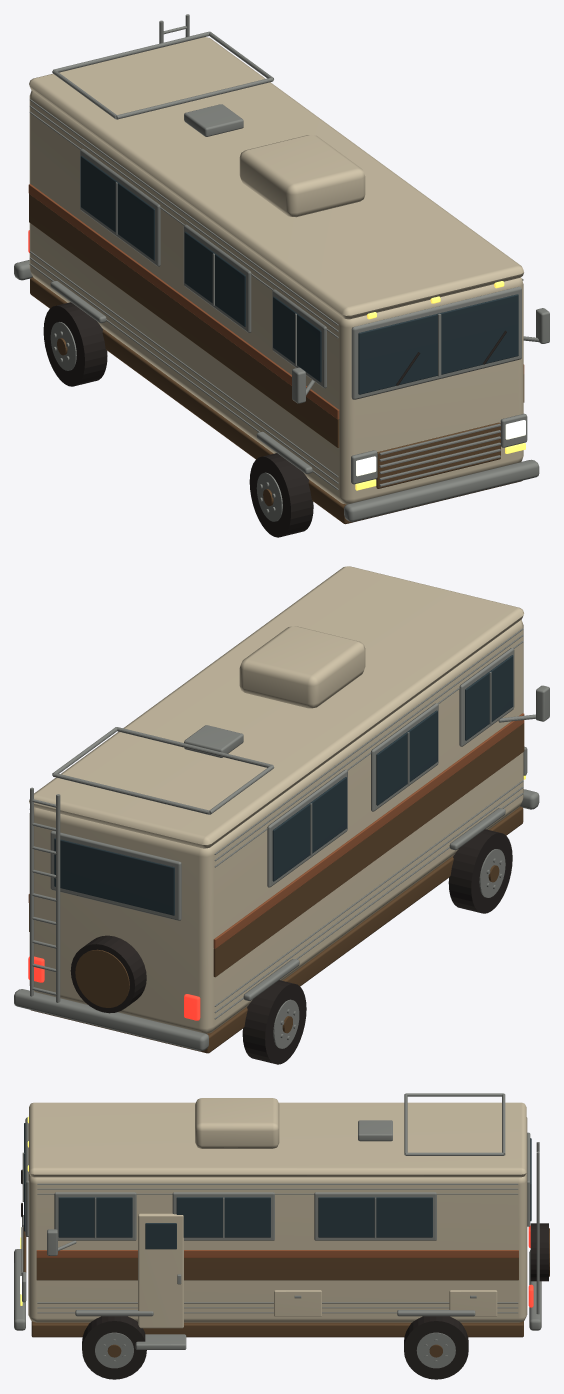
Rendered from m9e7fjnvg.glb.
3 views of the same model, one above another, from view 1: azimuth 30°, elevation 25°; view 2: azimuth 150°, elevation 25°; view 3: azimuth 270°, elevation 25° (orthographic). The views are drawn at different scales.
Visible parts, largest first — view 1: Roof cap, Coach body, Windshield, Brown belt, Roof AC, Chassis, Window glass.002, Bumper, Orange belt, Tire.001, Tire, Window glass.001 (+17 smaller); view 2: Coach body, Roof cap, Brown belt, Roof AC, Rear window, Chassis, Window glass.002, Bumper.001, Orange belt, Tire, Tire.001, Window glass.001 (+20 smaller); view 3: Coach body, Roof cap, Brown belt.001, Chassis, Window glass.005, Entry door, Roof AC, Window glass.004, Orange belt.001, Window glass.003, Tire.003, Tire.002 (+25 smaller).
Boxes of the visible parts, left/top/right/bottom form: Roof cap: left=29, top=37, right=523, bottom=319; Coach body: left=29, top=90, right=523, bottom=504; Windshield: left=358, top=294, right=518, bottom=394; Brown belt: left=29, top=194, right=339, bottom=447; Roof AC: left=239, top=135, right=365, bottom=217; Chassis: left=30, top=277, right=522, bottom=524; Window glass.002: left=80, top=156, right=154, bottom=260; Bumper: left=344, top=459, right=539, bottom=521; Orange belt: left=28, top=184, right=339, bottom=419; Tire.001: left=43, top=302, right=107, bottom=386; Tire: left=249, top=453, right=313, bottom=537; Window glass.001: left=184, top=231, right=245, bottom=326; Coach body: left=29, top=620, right=523, bottom=1033; Roof cap: left=29, top=566, right=523, bottom=848; Brown belt: left=213, top=723, right=524, bottom=977; Roof AC: left=239, top=626, right=365, bottom=708; Rear window: left=54, top=838, right=174, bottom=915; Chassis: left=31, top=806, right=523, bottom=1053; Window glass.002: left=272, top=777, right=346, bottom=881; Bumper.001: left=14, top=989, right=208, bottom=1051; Orange belt: left=213, top=713, right=524, bottom=948; Tire: left=448, top=829, right=512, bottom=913; Tire.001: left=242, top=980, right=306, bottom=1064; Window glass.001: left=376, top=710, right=437, bottom=805; Coach body: left=28, top=1117, right=527, bottom=1322; Roof cap: left=29, top=1102, right=526, bottom=1177; Brown belt.001: left=36, top=1258, right=518, bottom=1280; Chassis: left=31, top=1321, right=523, bottom=1337; Window glass.005: left=318, top=1197, right=432, bottom=1237; Entry door: left=138, top=1213, right=183, bottom=1328; Roof AC: left=195, top=1098, right=279, bottom=1148; Window glass.004: left=176, top=1197, right=270, bottom=1237; Orange belt.001: left=36, top=1250, right=518, bottom=1257; Window glass.003: left=58, top=1197, right=132, bottom=1237; Tire.003: left=404, top=1316, right=468, bottom=1379; Tire.002: left=82, top=1316, right=146, bottom=1379.
Bounding box in the file's own units: 3.38 × 3.71 × 7.95.
